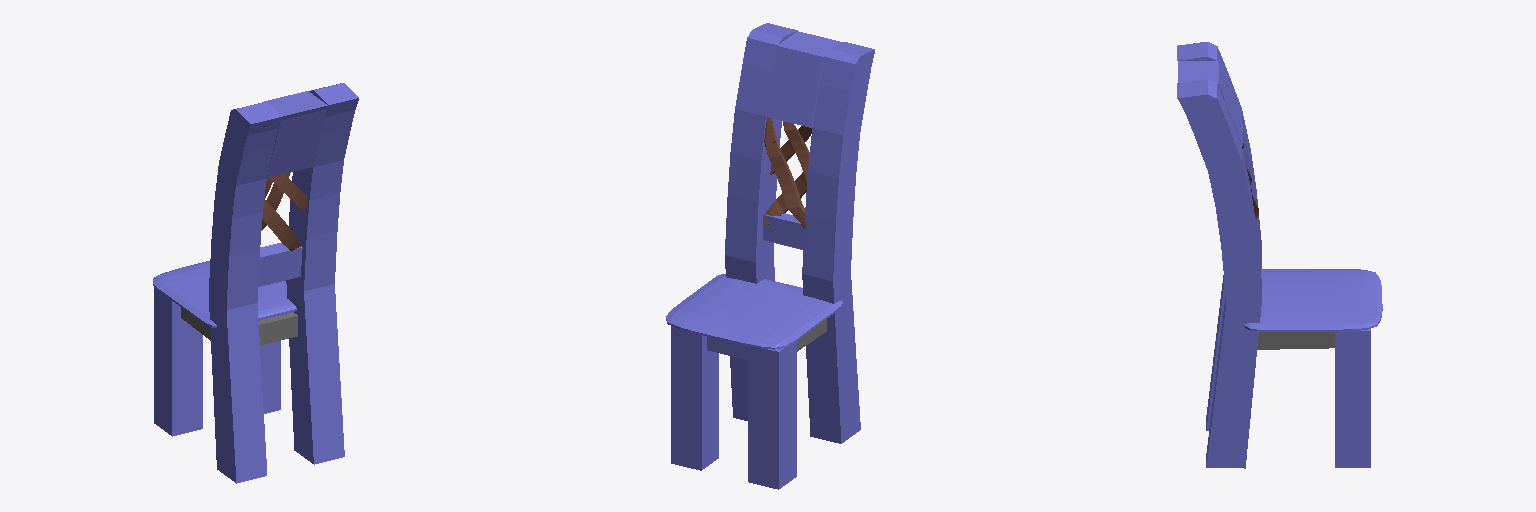
Rendered from Chair.obj.
3 views of the same model, side by side, from view 1: azimuth 30°, elevation 25°; view 2: azimuth 150°, elevation 25°; view 3: azimuth 270°, elevation 25° (orthographic).
Visible parts, largest first — view 1: Chair.obj; view 2: Chair.obj; view 3: Chair.obj.
Boxes of the visible parts, box(x1,y1,x2,y2) form: Chair.obj: box(153, 83, 358, 483); Chair.obj: box(666, 23, 874, 489); Chair.obj: box(1177, 42, 1382, 468).
Bounding box in the file's own units: 103 × 295 × 147.